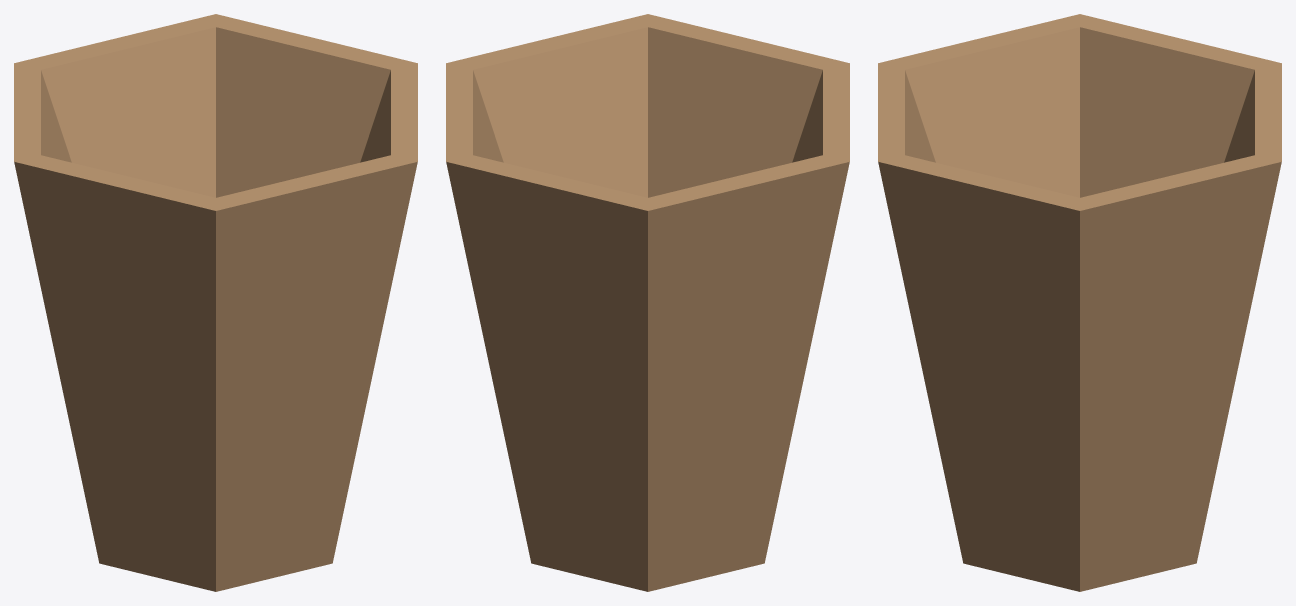
The model's file is bucket.fbx.
3 views of the same model, side by side, from view 1: azimuth 30°, elevation 25°; view 2: azimuth 150°, elevation 25°; view 3: azimuth 270°, elevation 25° (orthographic).
Parts seen in each view (by area): view 1: bucket1; view 2: bucket1; view 3: bucket1.
Boxes of the visible parts, x1=… form: bucket1: x1=14, y1=14, x2=417, y2=591; bucket1: x1=446, y1=14, x2=849, y2=591; bucket1: x1=878, y1=14, x2=1281, y2=591.
Size of the model in its own units: 106 by 106 by 91.85.
